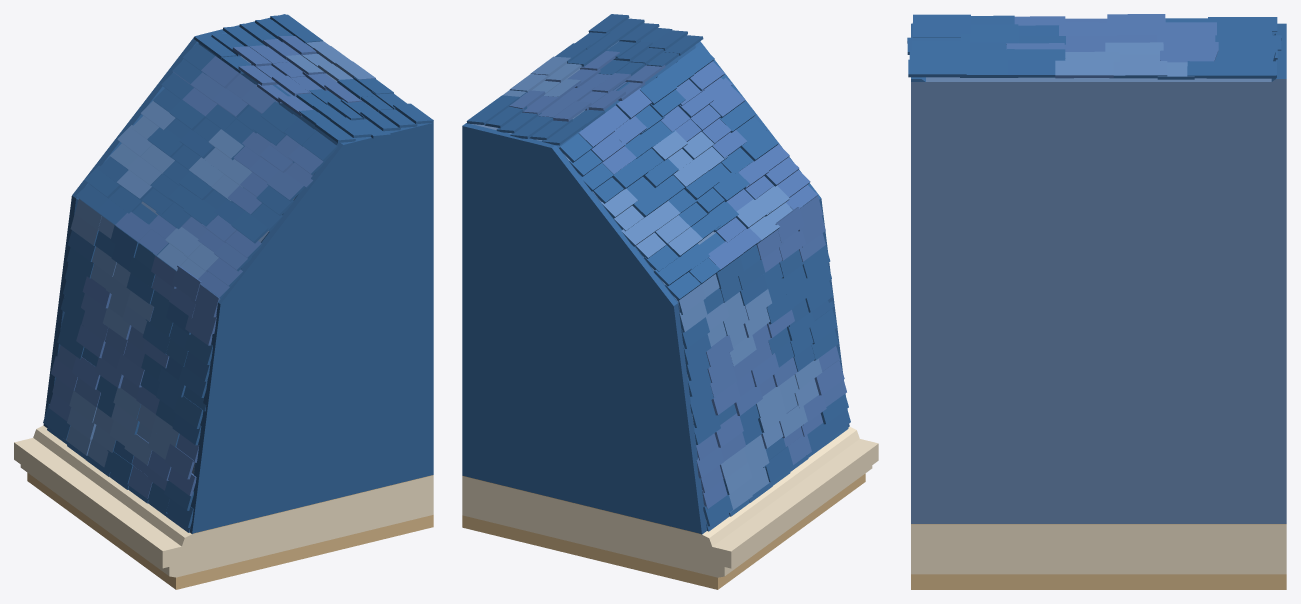
The model's file is Roof_Side_1.fbx.
3 views of the same model, side by side, from view 1: azimuth 30°, elevation 25°; view 2: azimuth 150°, elevation 25°; view 3: azimuth 270°, elevation 25° (orthographic). The views are drawn at different scales.
Visible parts, largest first — view 1: Roof_Side_1; view 2: Roof_Side_1; view 3: Roof_Side_1.
Part boxes in pixels (x1=…): Roof_Side_1: x1=14, y1=14, x2=433, y2=589; Roof_Side_1: x1=462, y1=14, x2=878, y2=589; Roof_Side_1: x1=907, y1=14, x2=1286, y2=589.
Bounding box in the file's own units: 210 × 202 × 305.
